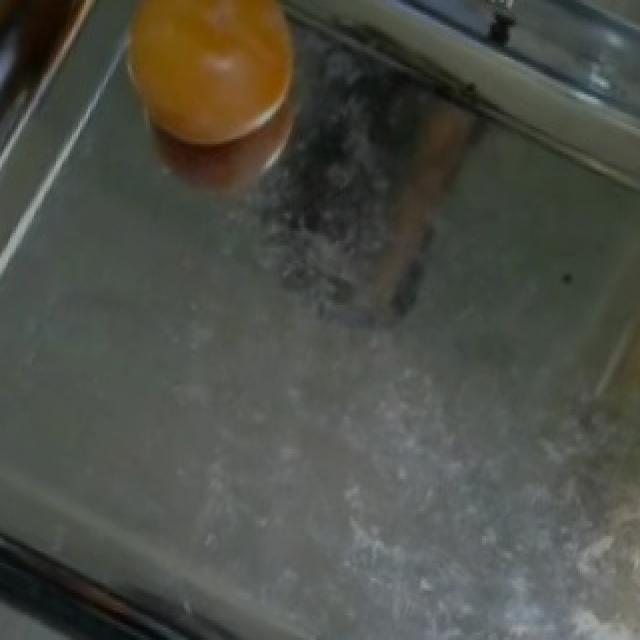Fruit: (102, 2, 316, 174)
